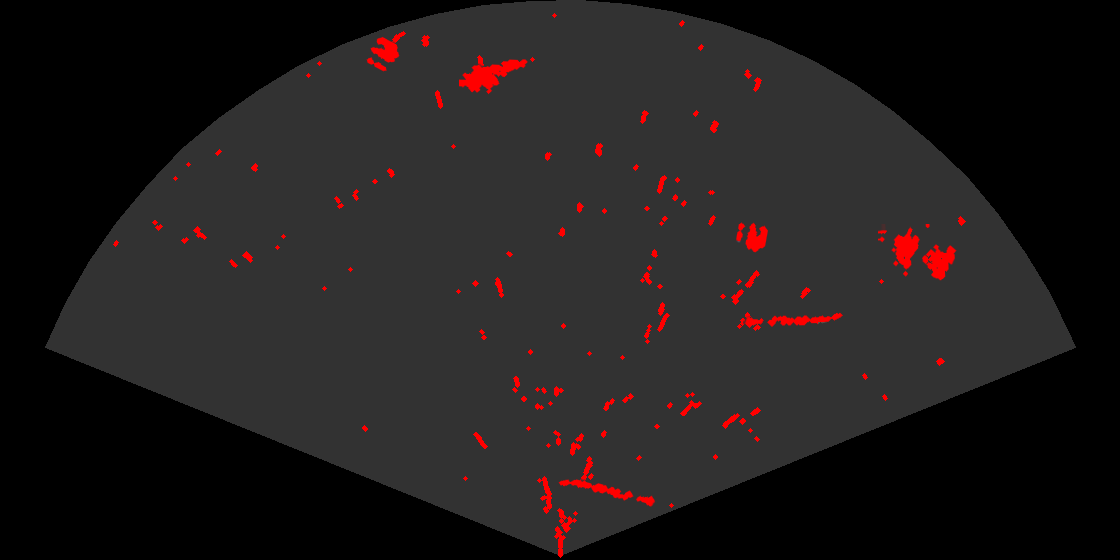ball: (365, 35, 401, 73), (735, 221, 770, 254)
cage: (878, 224, 958, 282)
chain: (557, 478, 658, 508), (743, 311, 843, 330)
frogman: (459, 58, 529, 96)
